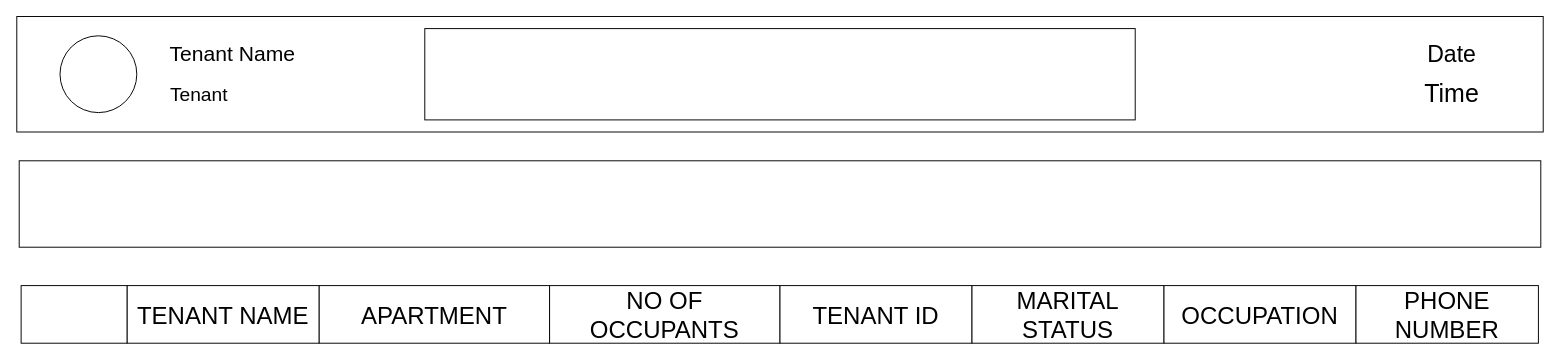
This 1560x361 diagram has some shape labels left out. Each missing label, with the box of its shape:
FILTERS: (18, 160, 1541, 247)
SL NO: (20, 285, 127, 343)
TENANTS: (424, 28, 1135, 120)
